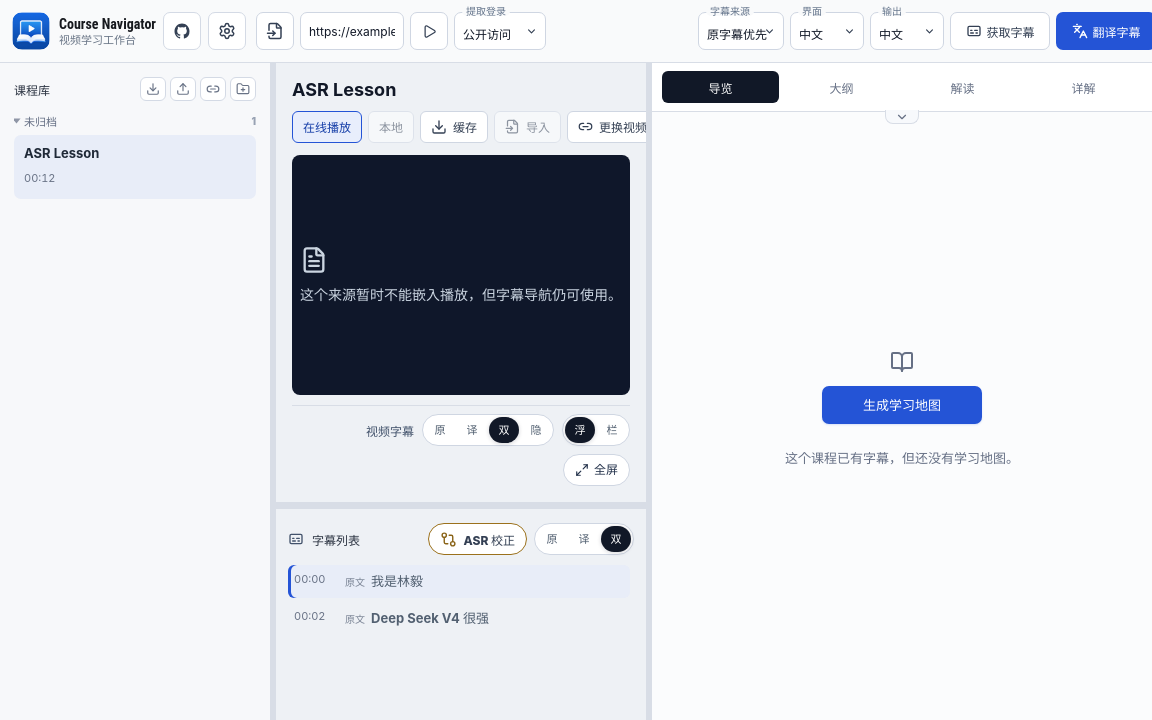
Test: App language defaults › shows a cancel action while ASR correction suggestions are being generated
Expected: the text "ASR Lesson" is shown, [24,145,99,161]
Click the button "ASR 校正" at (477, 539), box [428,523,527,555]
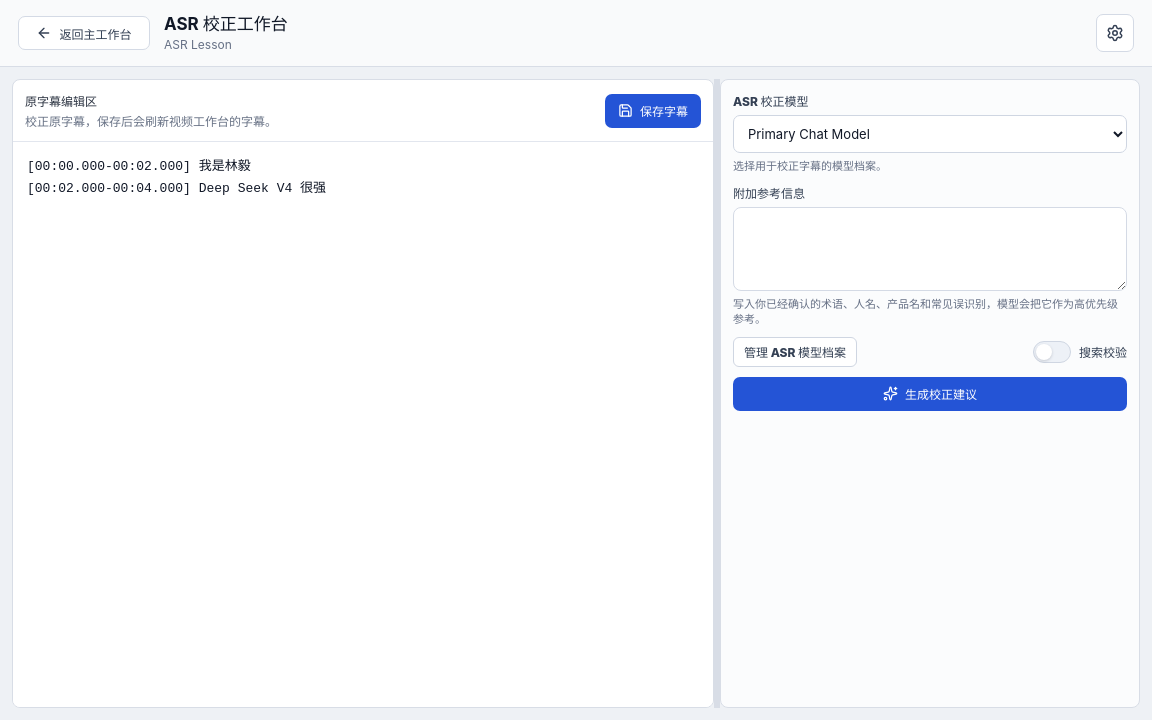
Click the button "生成校正建议" at (930, 394), box [733,377,1127,411]
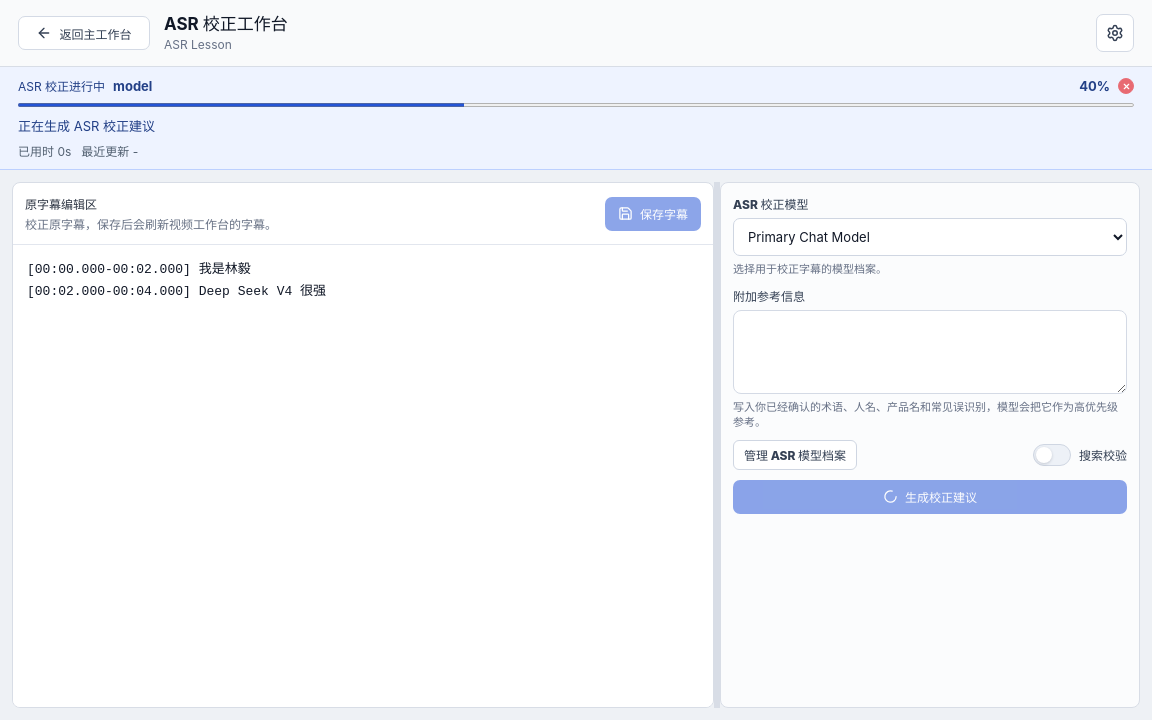
Click the button named "停止 ASR 校正" at (1126, 86), box [1118,78,1134,94]
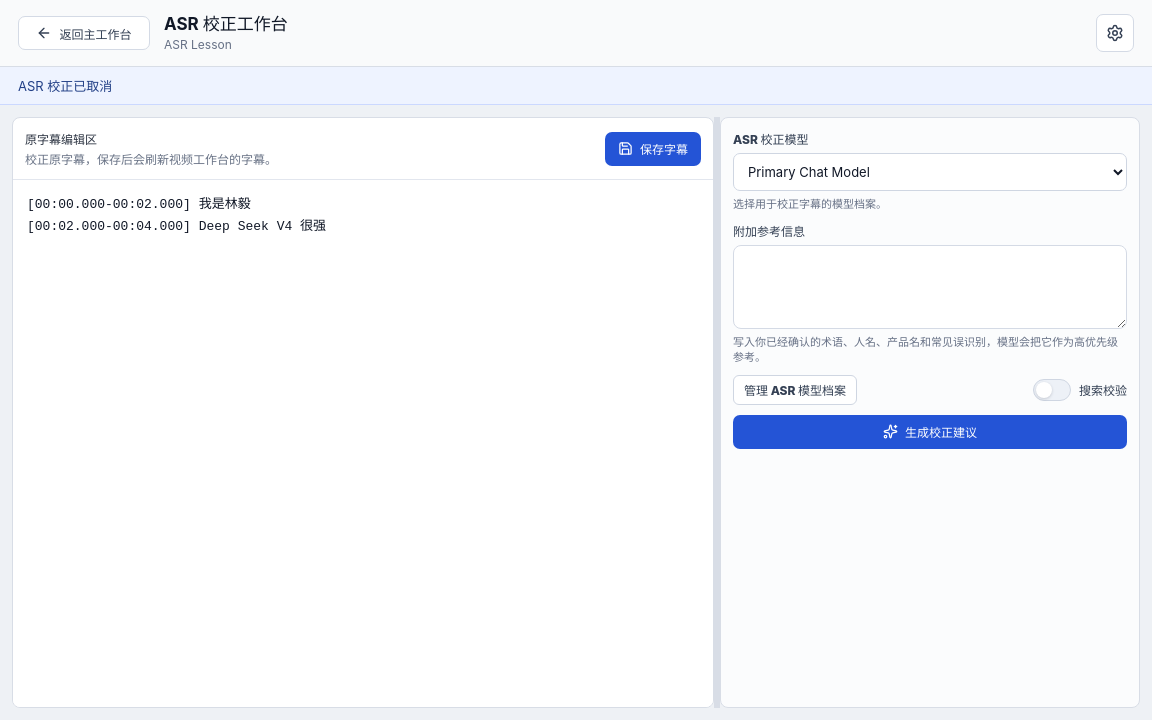
Expected: the text "ASR 校正进行中" is gone
Expected: the text "ASR 校正已取消" is shown, [0,67,1151,105]
